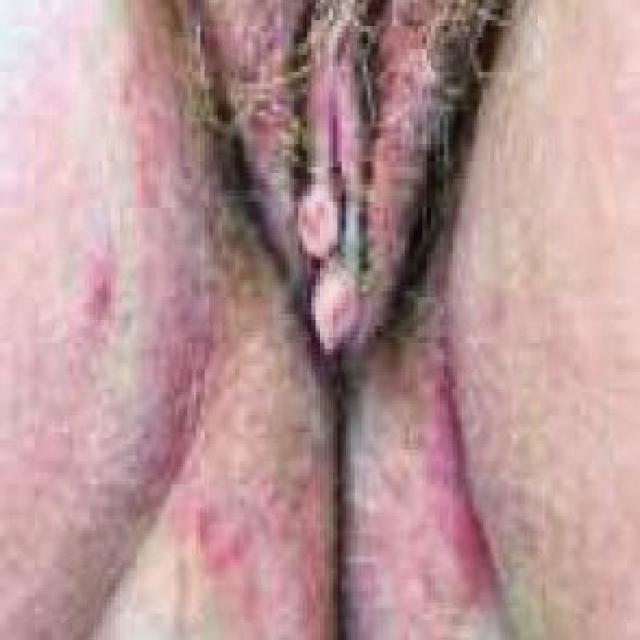Tinea Ringworm Candidiasis and other Fungal Infections: (71, 198, 576, 611)
